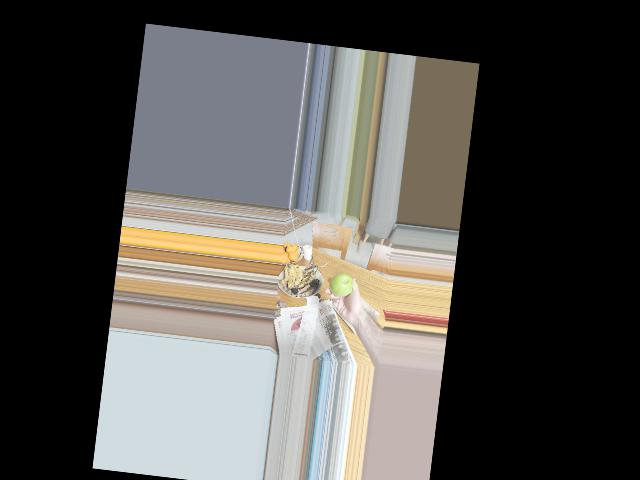apple: (328, 271, 354, 299)
